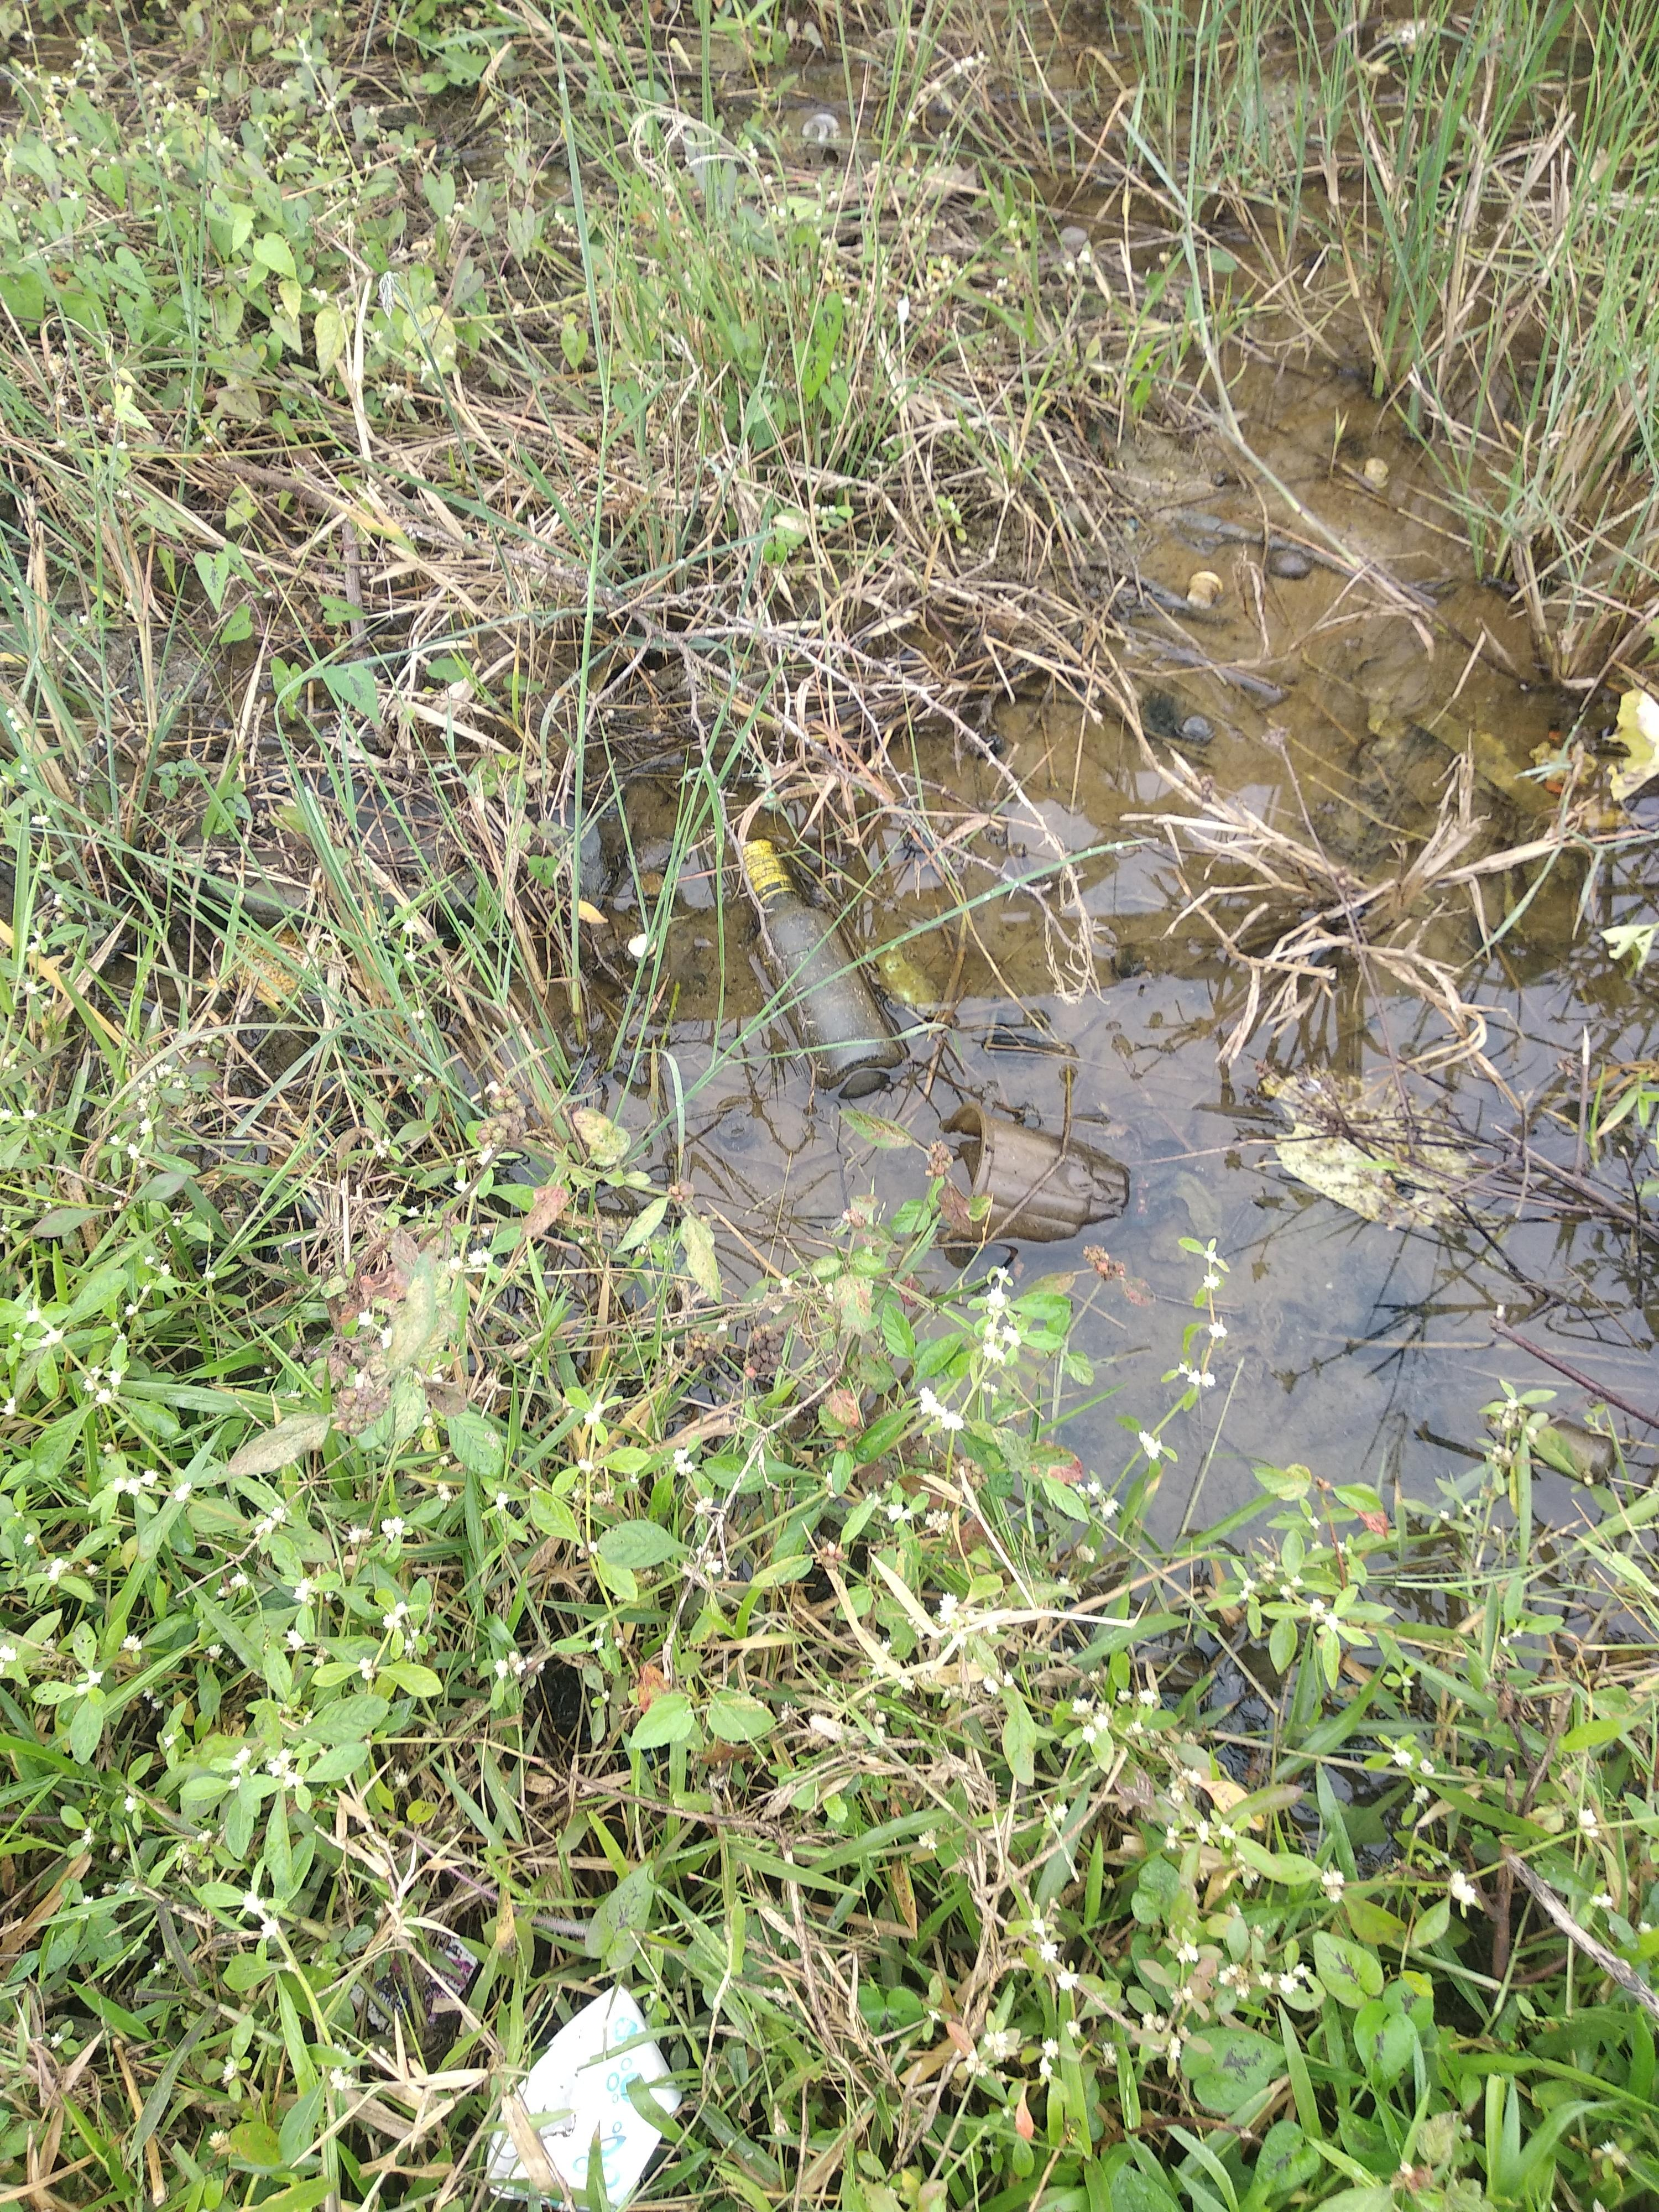organic: (713, 824, 1127, 1308)
